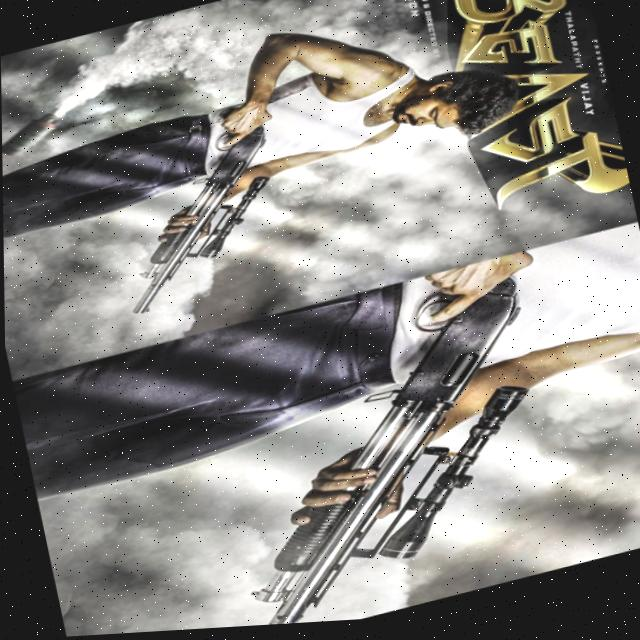firearm: (169, 271, 575, 632), (92, 99, 296, 322)
grenade: (1, 109, 68, 161)
